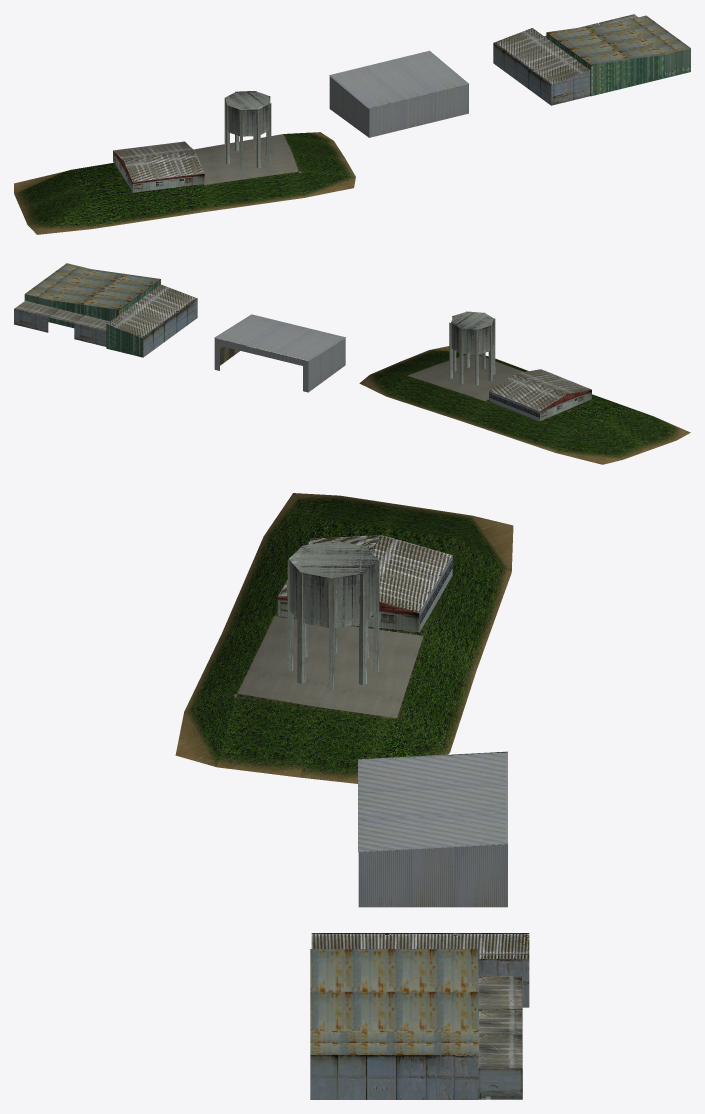
The model's file is North_hangar.gltf.
3 views of the same model, one above another, from view 1: azimuth 30°, elevation 25°; view 2: azimuth 150°, elevation 25°; view 3: azimuth 270°, elevation 25° (orthographic). The views are drawn at different scales.
Visible parts, largest first — view 1: node2, node1; view 2: node2, node1; view 3: node2, node1.
Part boxes in pixels (x1,y1,x2,y2): node2: (113, 14, 690, 192); node1: (14, 132, 355, 234); node2: (14, 263, 591, 421); node1: (359, 346, 690, 464); node2: (277, 535, 529, 1099); node1: (175, 493, 513, 783).
Size of the model in its own units: 145 by 15.55 by 35.78.
